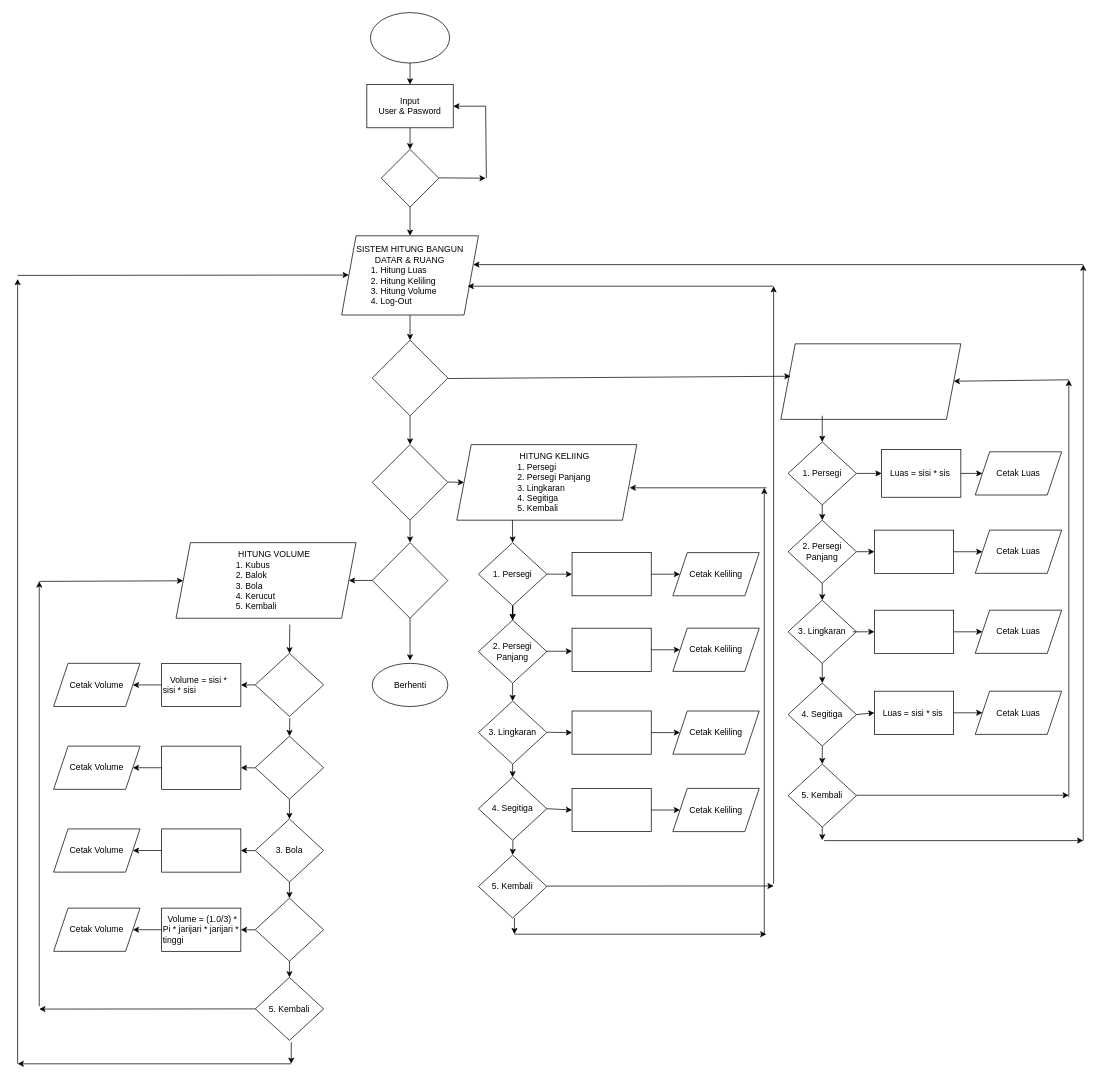
The diagram is 1102 pixels wide and 1082 high, and some of its shapes have lost their labels. The box of each missing label's shape, as (x1, y1, x2, y2) in pixels:
1. Hitung Luas: (372, 339, 448, 416)
1. Kubus: (255, 653, 324, 716)
2. Balok: (255, 735, 324, 799)
2. Hitung Keliling: (372, 444, 448, 520)
3. Hitung Volume: (372, 542, 448, 618)
4. Kerucut: (255, 897, 324, 961)
HITUNG LUAS 1. Persegi 2. Persegi Panjang 3. Lingkaran 4. Segitiga 5. Kembali: (780, 343, 961, 419)
Keliling = 2 * (panjang + lebar): (571, 627, 651, 671)
Keliling = 2 * Pi * A: (571, 710, 651, 754)
Keliling = 4 * sisi: (571, 552, 651, 596)
Keliling = D + I+ T: (571, 788, 651, 832)
Luas = panjang * Lebar: (874, 529, 954, 573)
Luas = PI * jarijari * jarijari: (874, 609, 954, 653)
Mulai: (370, 12, 450, 63)
User & Psw: (381, 149, 439, 207)
Volume = (4,0/3) * Pi * jarijari * jarijari * jarijari: (161, 828, 241, 872)
Volume = panjang * lebar * tinggi: (161, 745, 241, 789)
